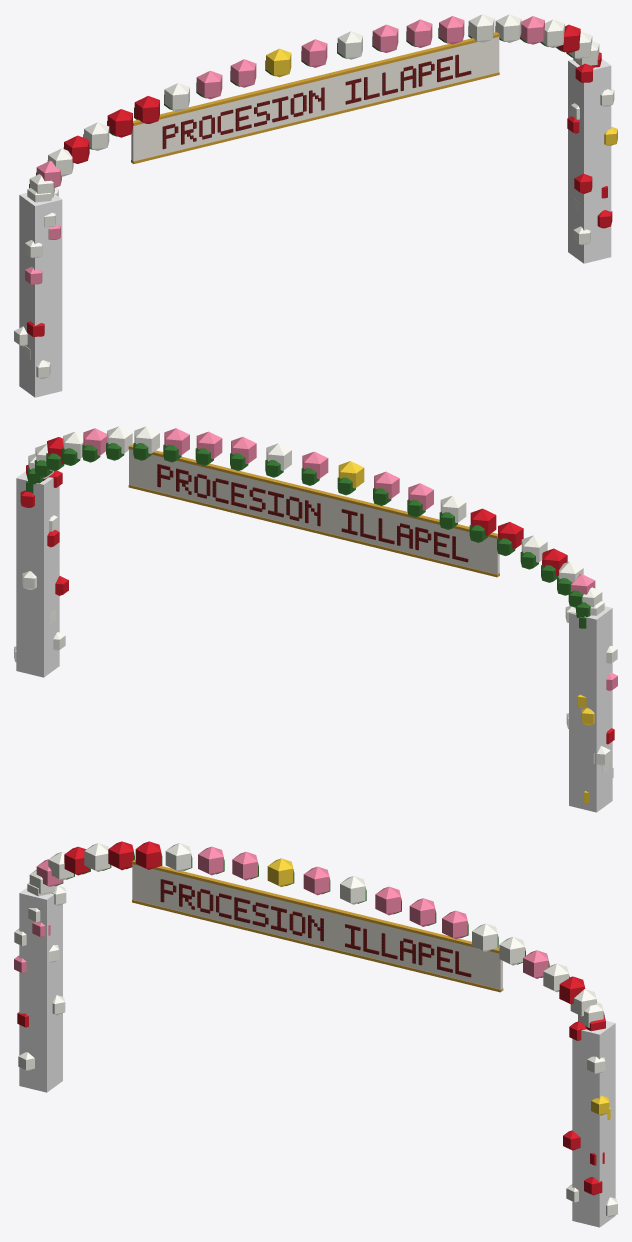
File: arco_procesion.obj
3 views of the same model, one above another, from view 1: azimuth 30°, elevation 25°; view 2: azimuth 150°, elevation 25°; view 3: azimuth 330°, elevation 25° (orthographic).
Visible parts, largest first — view 1: arco_procesion; view 2: arco_procesion; view 3: arco_procesion.
Part boxes in pixels (bbox=[...]): arco_procesion: bbox=[14, 14, 617, 397]; arco_procesion: bbox=[14, 426, 617, 812]; arco_procesion: bbox=[14, 841, 617, 1227].
Size of the model in its own units: 19.39 by 8.85 by 1.38.
